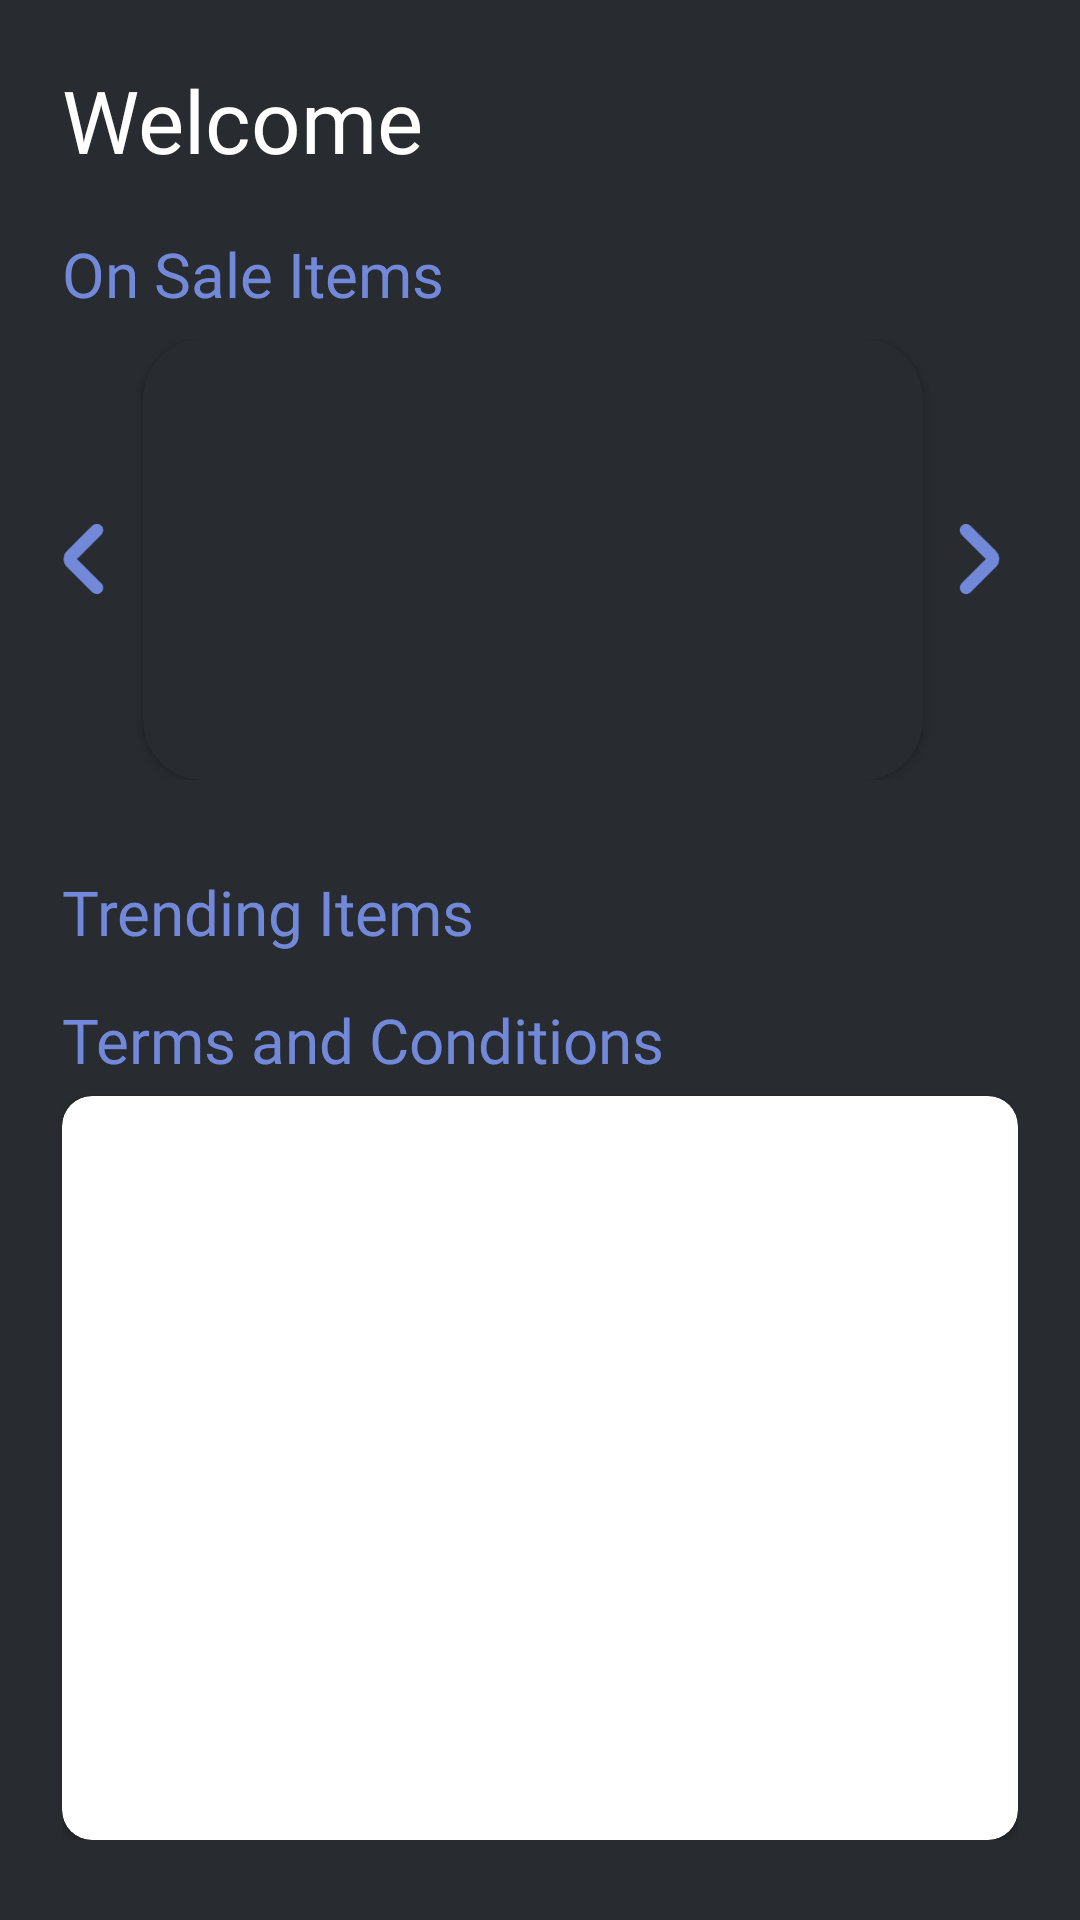

Named icons in this screenshot (1080 x 1920) and their bounding boxes, (x1, y1, x2, y2):
next: (959, 524, 1000, 594)
prev: (63, 524, 104, 594)
